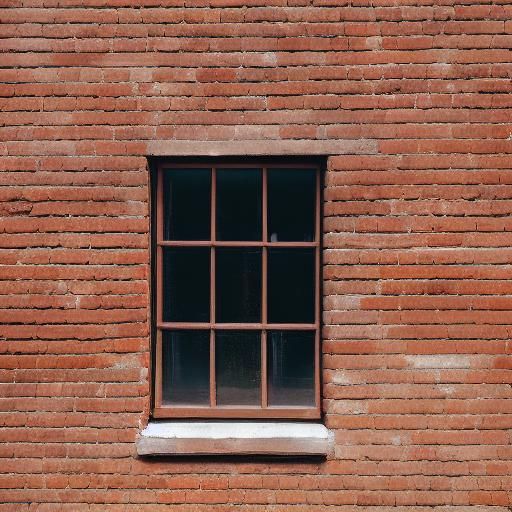Window: (135, 139, 336, 461)
